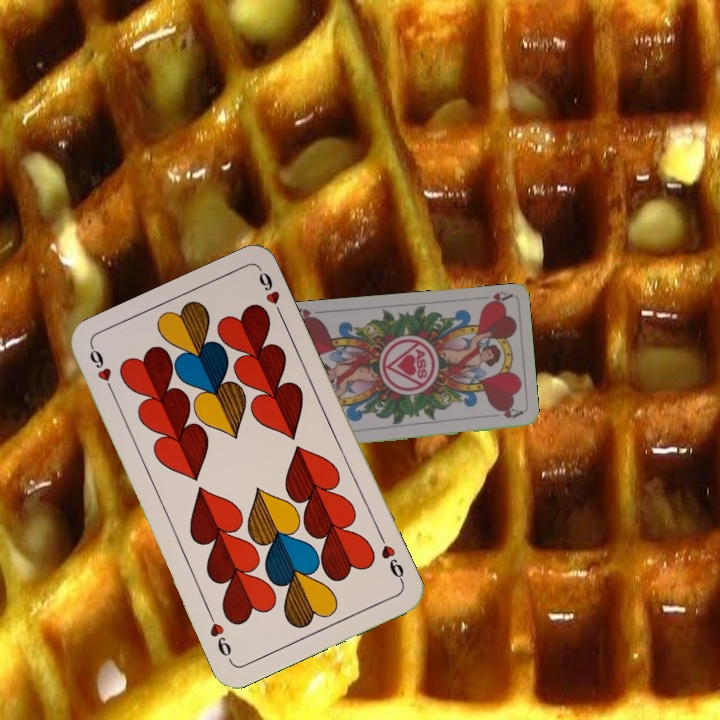H9: (85, 343, 118, 399), (375, 530, 407, 586)
HA: (472, 287, 513, 308)
